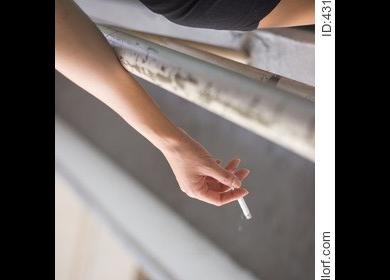Cigarette: (230, 185, 252, 219)
